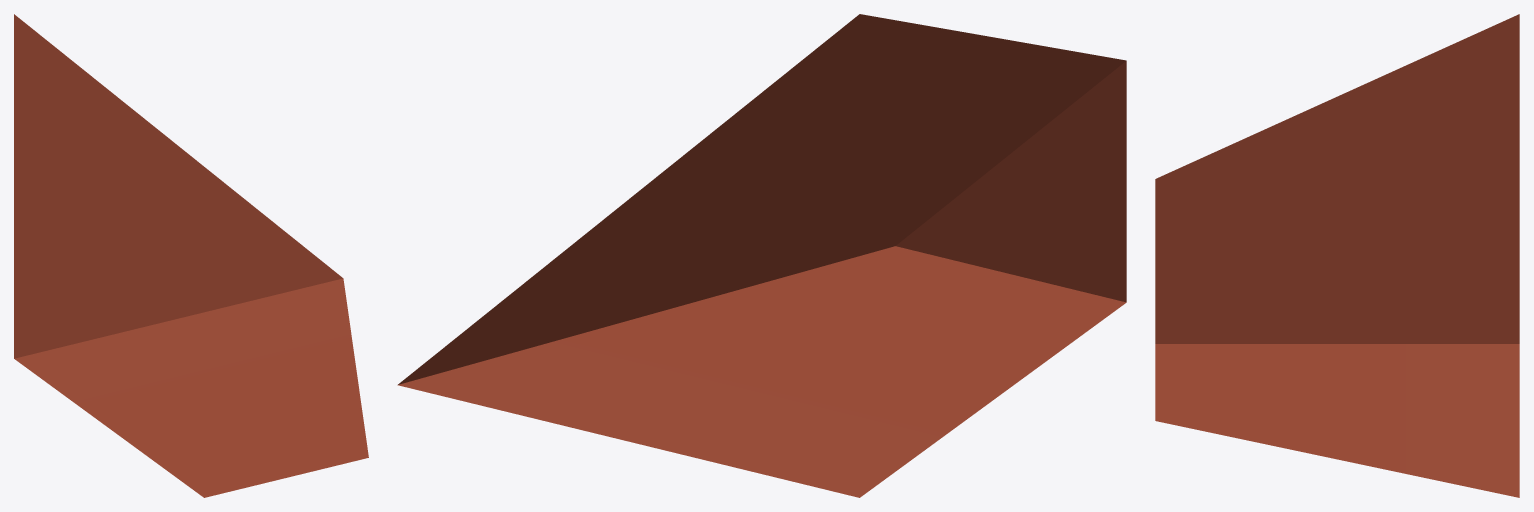
File: r5c2_border_brown.gltf
3 views of the same model, side by side, from view 1: azimuth 30°, elevation 25°; view 2: azimuth 150°, elevation 25°; view 3: azimuth 270°, elevation 25° (orthographic). The views are drawn at different scales.
Visible parts, largest first — view 1: r5c2_border_brown; view 2: r5c2_border_brown; view 3: r5c2_border_brown.
Boxes of the visible parts, x1=… form: r5c2_border_brown: x1=14, y1=14, x2=368, y2=497; r5c2_border_brown: x1=397, y1=14, x2=1126, y2=497; r5c2_border_brown: x1=1155, y1=14, x2=1519, y2=497.
Size of the model in its own units: 2.1 by 2.1 by 2.1.
1 material, 1 textured.
